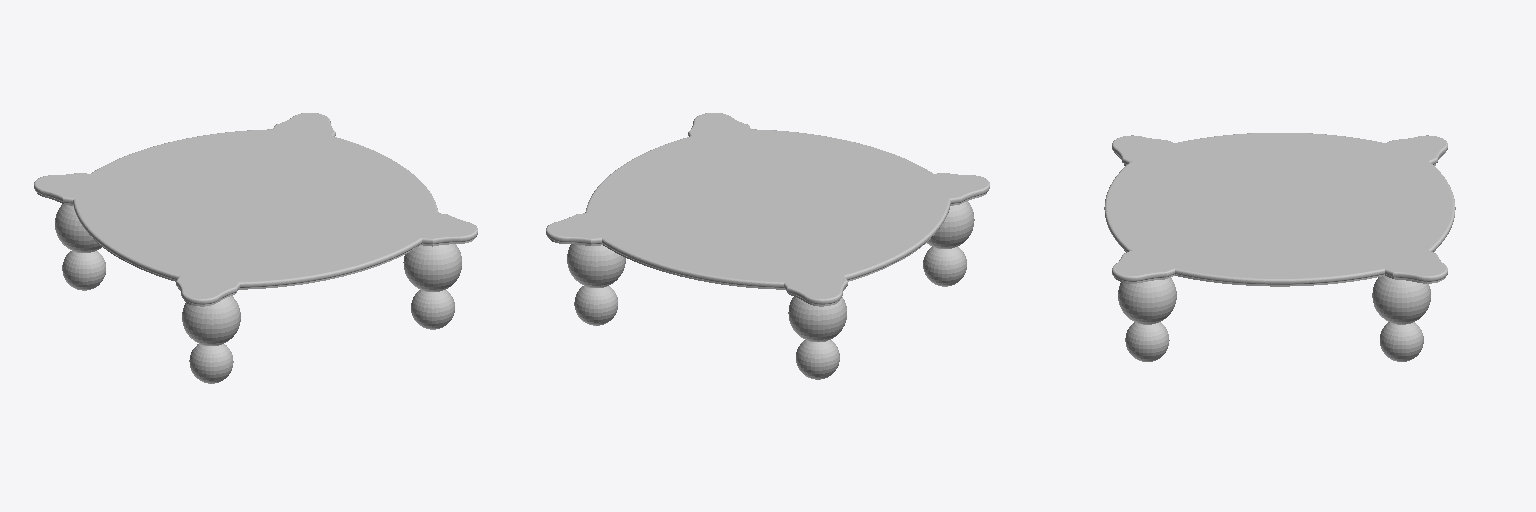
File: table.obj
3 views of the same model, side by side, from view 1: azimuth 30°, elevation 25°; view 2: azimuth 150°, elevation 25°; view 3: azimuth 270°, elevation 25° (orthographic).
Parts seen in each view (by area): view 1: Line02, Sphere03; view 2: Line02, Sphere03; view 3: Line02, Sphere03.
Part boxes in pixels (left/top/right/bottom): Line02: left=34, top=113, right=477, bottom=306; Sphere03: left=55, top=204, right=461, bottom=383; Line02: left=546, top=113, right=989, bottom=306; Sphere03: left=567, top=201, right=974, bottom=379; Line02: left=1104, top=133, right=1455, bottom=286; Sphere03: left=1118, top=276, right=1430, bottom=361.
Size of the model in its own units: 5.42 by 1.71 by 5.42.